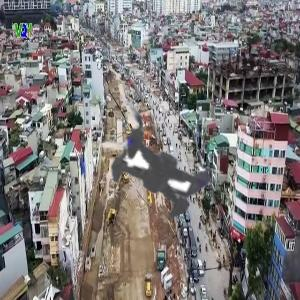drone: (46, 61, 281, 296)
